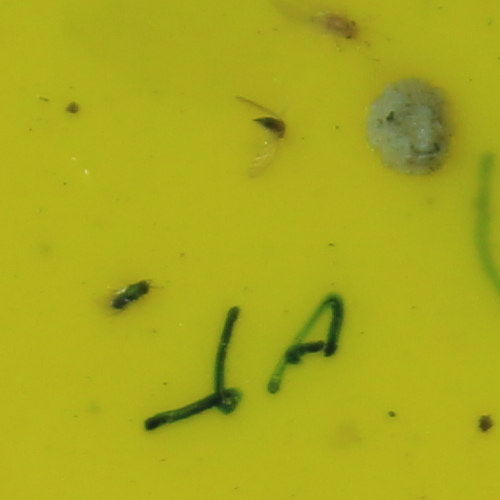psylla: (320, 11, 362, 37), (252, 112, 290, 140)
wasp: (115, 275, 153, 310)
